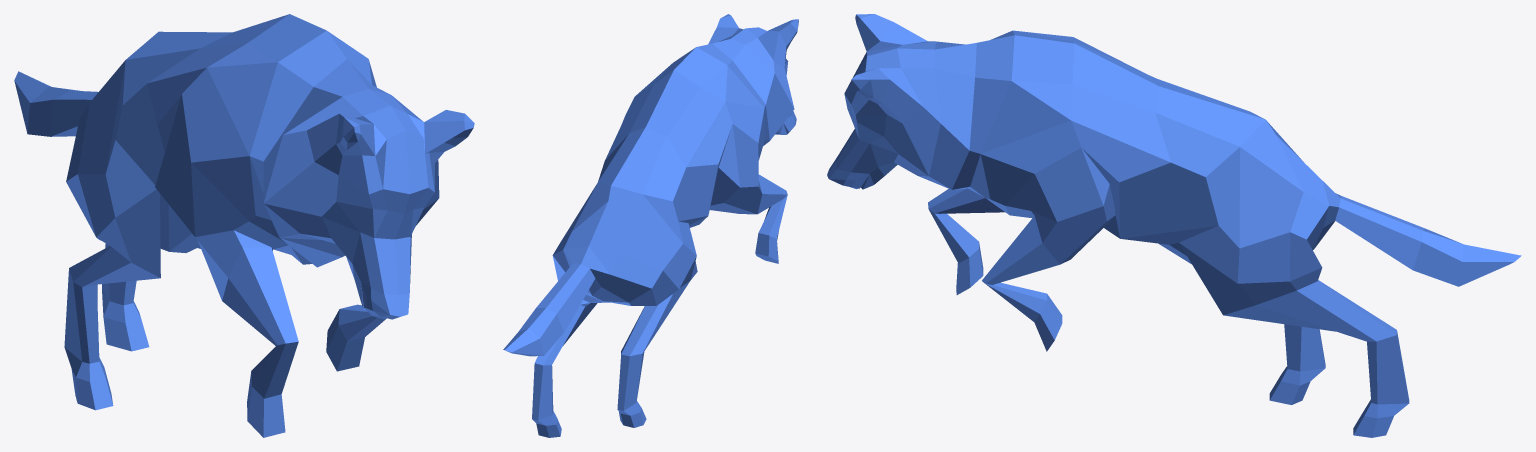
File: wolfRunA_v009017.obj
3 renders of one model, left to right at view 1: azimuth 30°, elevation 25°; view 2: azimuth 150°, elevation 25°; view 3: azimuth 270°, elevation 25°, orthographic. The views are drawn at different scales.
Visible parts, largest first — view 1: comp_wolf_rig:wolf_body comp_wolf_rig:wolf; view 2: comp_wolf_rig:wolf_body comp_wolf_rig:wolf; view 3: comp_wolf_rig:wolf_body comp_wolf_rig:wolf.
Boxes of the visible parts, x1,y1,x2,y2 form: comp_wolf_rig:wolf_body comp_wolf_rig:wolf: (14, 14, 474, 437); comp_wolf_rig:wolf_body comp_wolf_rig:wolf: (503, 14, 798, 437); comp_wolf_rig:wolf_body comp_wolf_rig:wolf: (827, 14, 1521, 437).
Size of the model in its own units: 36.05 by 77.17 by 125.
